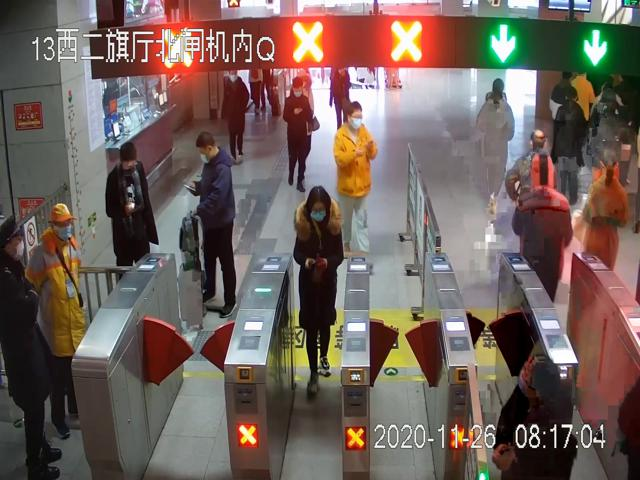person: (0, 212, 65, 479), (23, 203, 89, 441), (294, 184, 345, 396), (188, 130, 239, 317), (334, 100, 379, 276), (106, 141, 158, 270), (283, 76, 317, 192)
